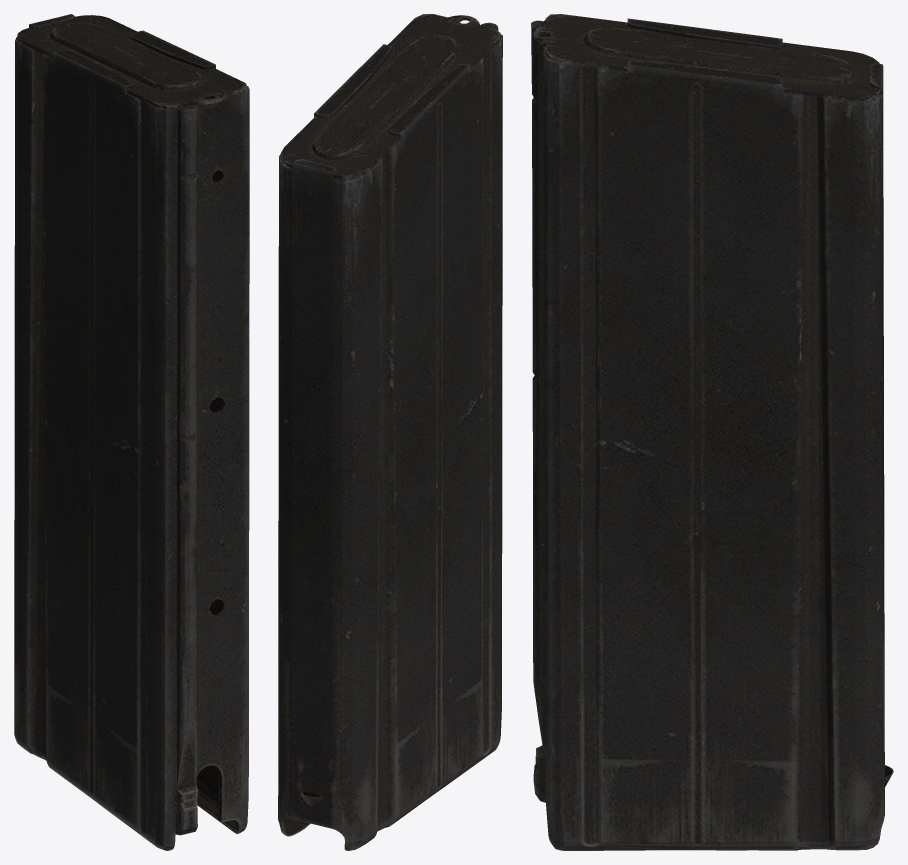
The picture shows the model from 3 angles, left to right: view 1: azimuth 30°, elevation 25°; view 2: azimuth 150°, elevation 25°; view 3: azimuth 270°, elevation 25°; orthographic projection. The views are drawn at different scales.
Visible parts, largest first — view 1: TW_5b7bef5d5acfc43bca7067a3_PZ_Import; view 2: TW_5b7bef5d5acfc43bca7067a3_PZ_Import; view 3: TW_5b7bef5d5acfc43bca7067a3_PZ_Import.
Part boxes in pixels (box(x1,y1,x2,y2)): TW_5b7bef5d5acfc43bca7067a3_PZ_Import: box(14, 14, 249, 850); TW_5b7bef5d5acfc43bca7067a3_PZ_Import: box(278, 14, 502, 850); TW_5b7bef5d5acfc43bca7067a3_PZ_Import: box(531, 14, 893, 850).
Size of the model in its own units: 0.0148 by 0.048 by 0.1169.
Materials: 1 (1 with a texture image).
